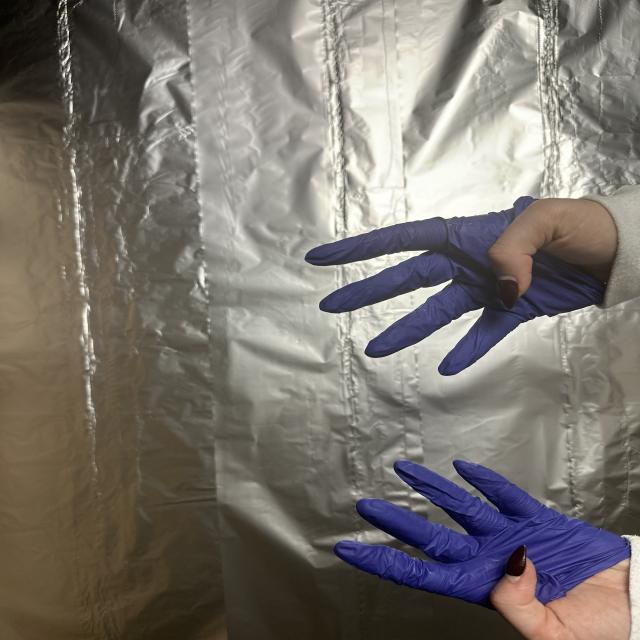glove_partial: (301, 195, 618, 377), (329, 455, 640, 640)
